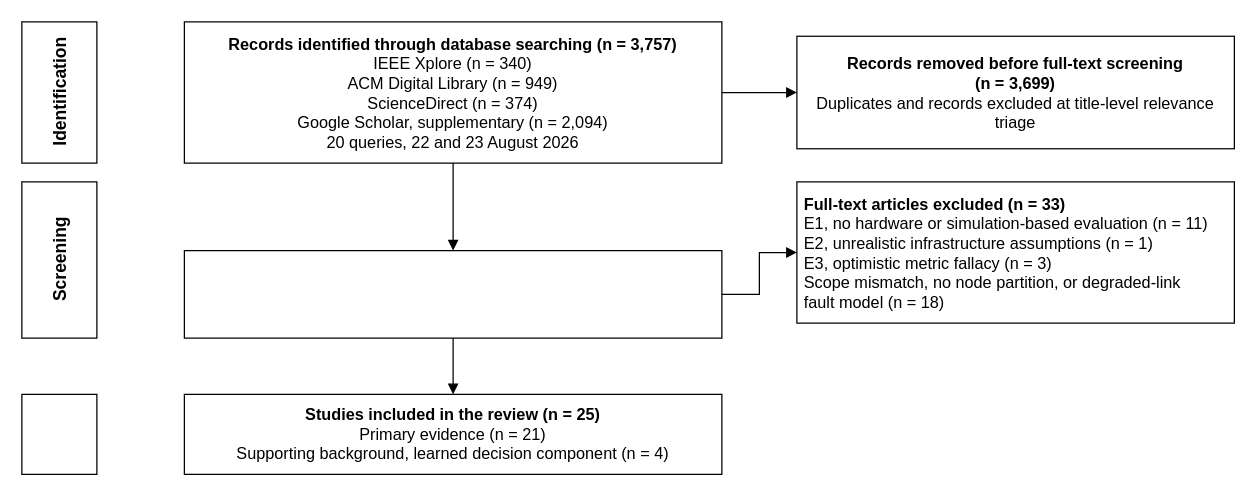
The diagram is 1256 pixels wide and 496 high, and some of its shapes have lost their labels. Each missing label, with the centre of its shape:
Full-text articles assessed for eligibility (n = 58): point (452, 293)
Included: point (59, 433)
